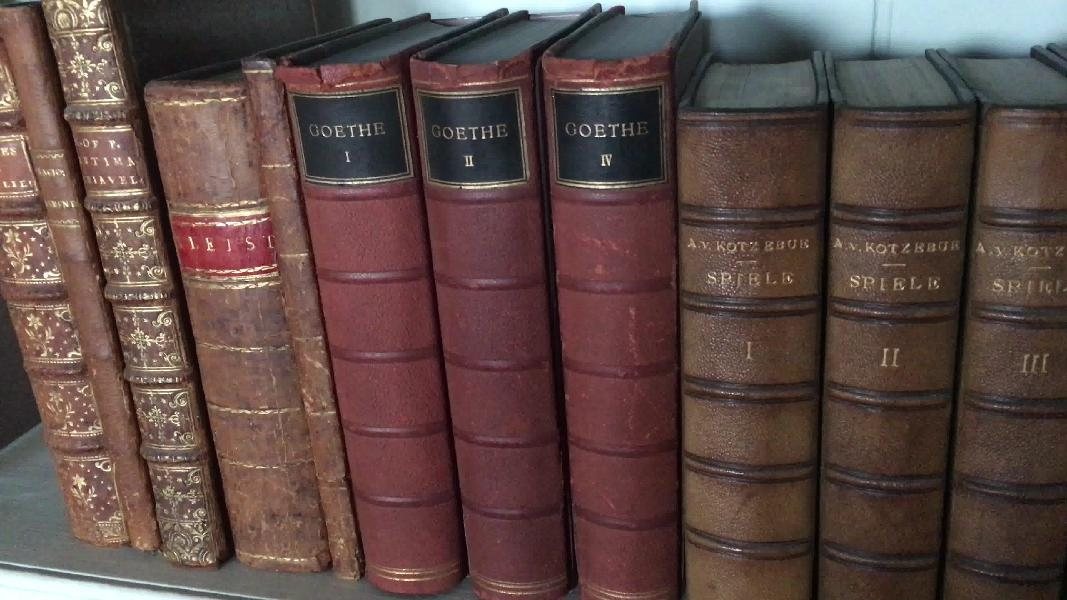Aa6-10: (239, 51, 366, 582)
Aa6-11_13: (283, 50, 681, 600)
Aa6-14_17: (677, 97, 1057, 600)
Aa6-7: (1, 9, 161, 566)
Aa6-8: (42, 15, 238, 570)
Aa6-9: (131, 69, 329, 579)
